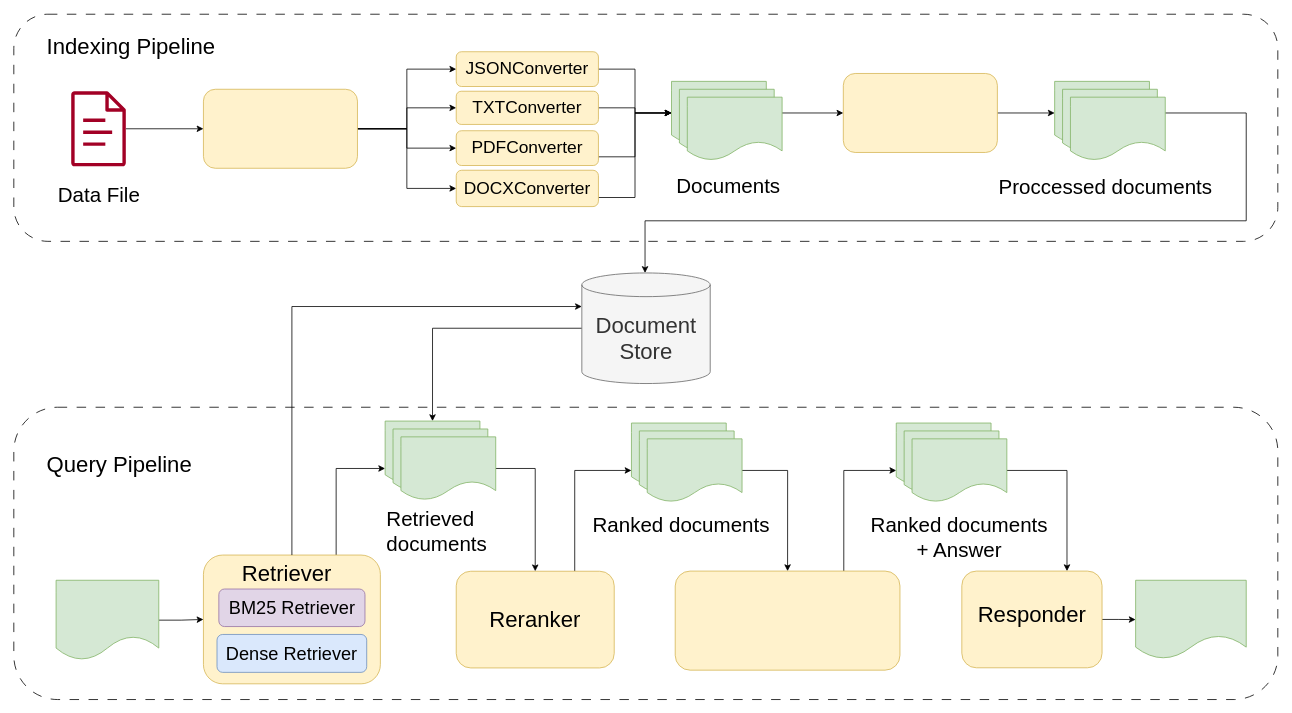
This 1292x713 diagram has some shape labels left out. Here are the shapes that lost their labels. From the top down, the centre of each, then its label:
point 280,128: FileClassifier
point 920,112: PreProcessor
point 107,619: Query
point 787,620: Reader (extractive/generative)
point 1190,619: Response
